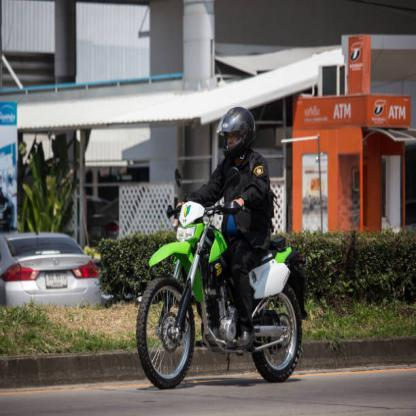Motorcycle: (124, 193, 311, 397)
